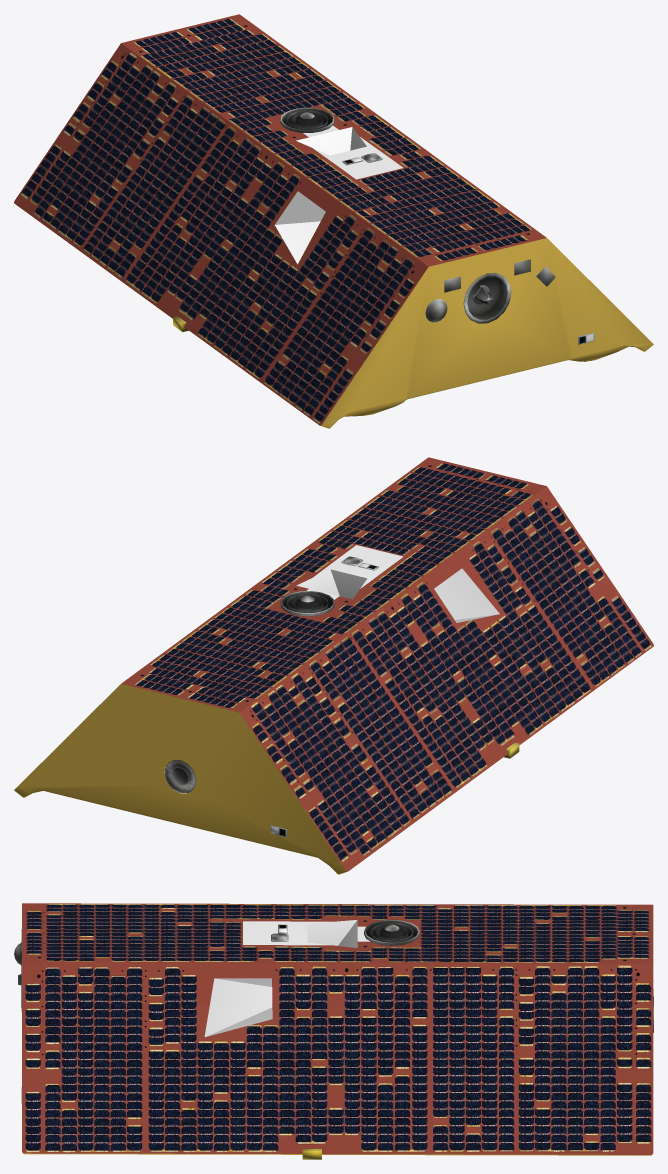
The model's file is grace-fo.glb.
The picture shows the model from 3 angles, top to bottom: view 1: azimuth 30°, elevation 25°; view 2: azimuth 150°, elevation 25°; view 3: azimuth 270°, elevation 25°; orthographic projection. The views are drawn at different scales.
Visible parts, largest first — view 1: BUS; view 2: BUS; view 3: BUS.
Part boxes in pixels (bbox=[...]): BUS: bbox=[14, 14, 653, 428]; BUS: bbox=[14, 457, 653, 874]; BUS: bbox=[14, 903, 653, 1159].
Size of what is drawn, in the model's own units: 2.03 by 0.8542 by 3.25.
Materials: 3 (1 with a texture image).
